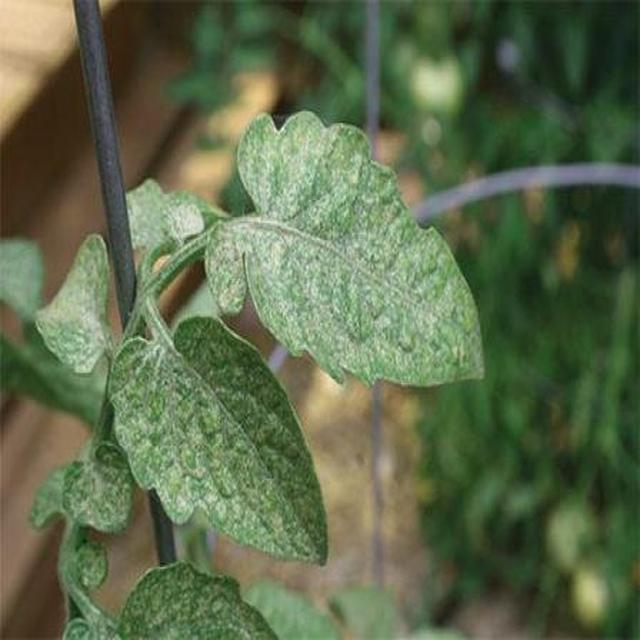Spider Mites Leaf: (314, 363, 492, 631)
